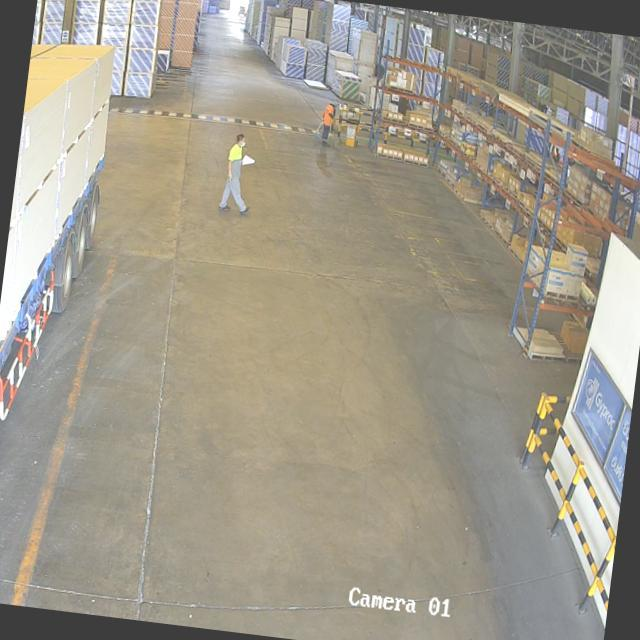person: (212, 125, 258, 220), (316, 96, 338, 146)
